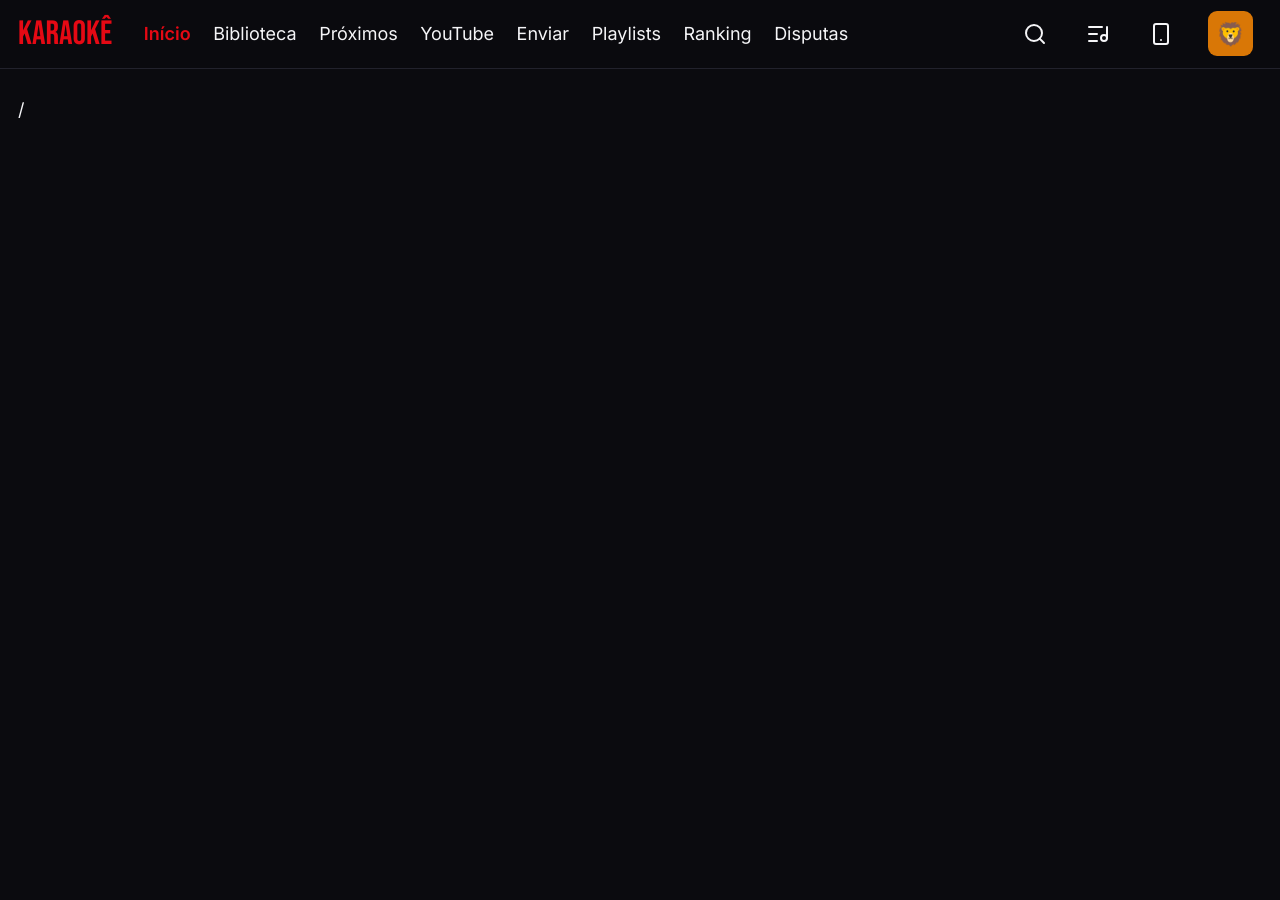
Test case: StageLayout › closes the profile menu when clicking outside and after choosing an option
This screenshot has width=1280, height=900.
Click the button named "Menu do perfil Ana" at (1230, 34), box [1199,9,1262,58]
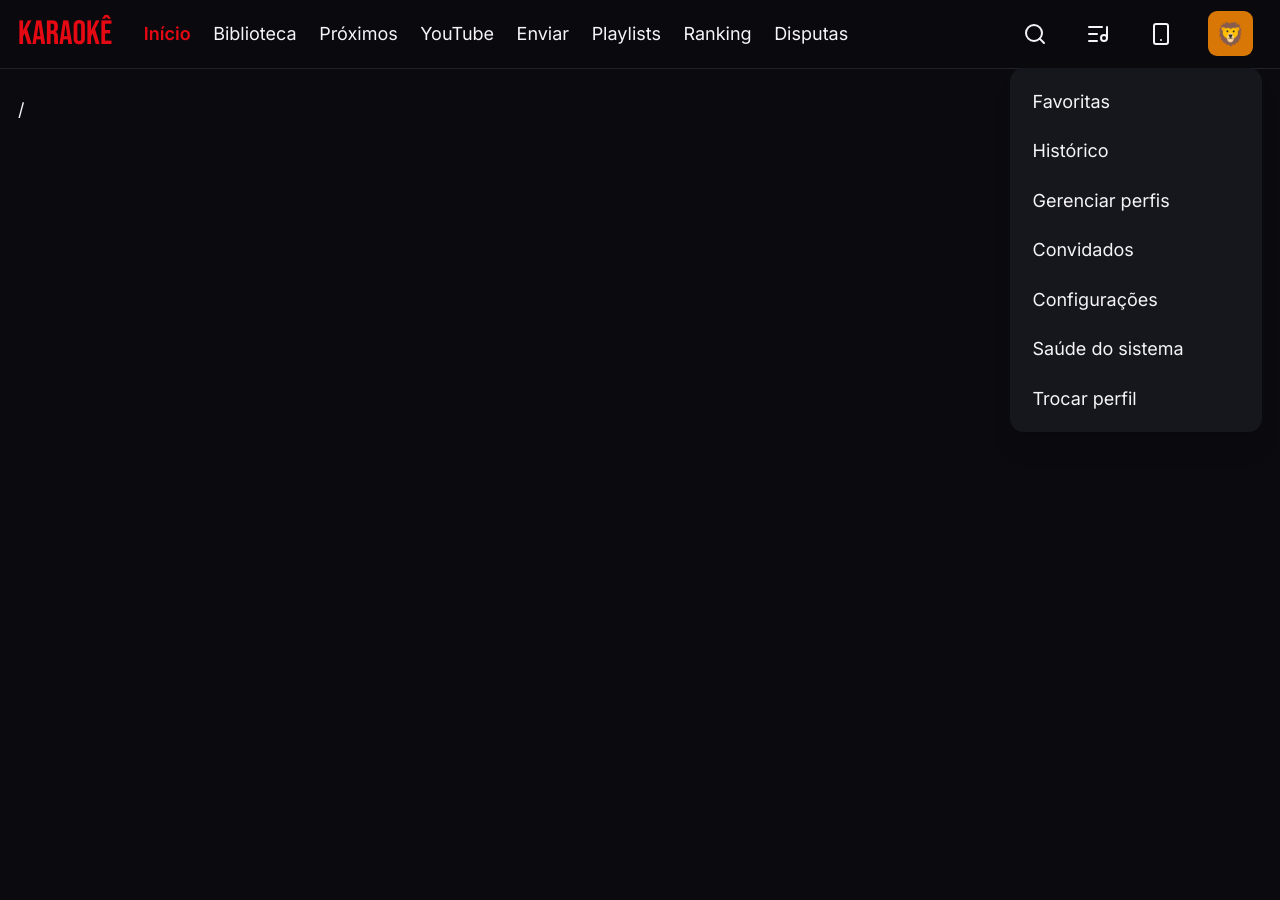
Press the mouse on the element that starts with "Karaokê" at (640, 450), box [0,0,1279,899]
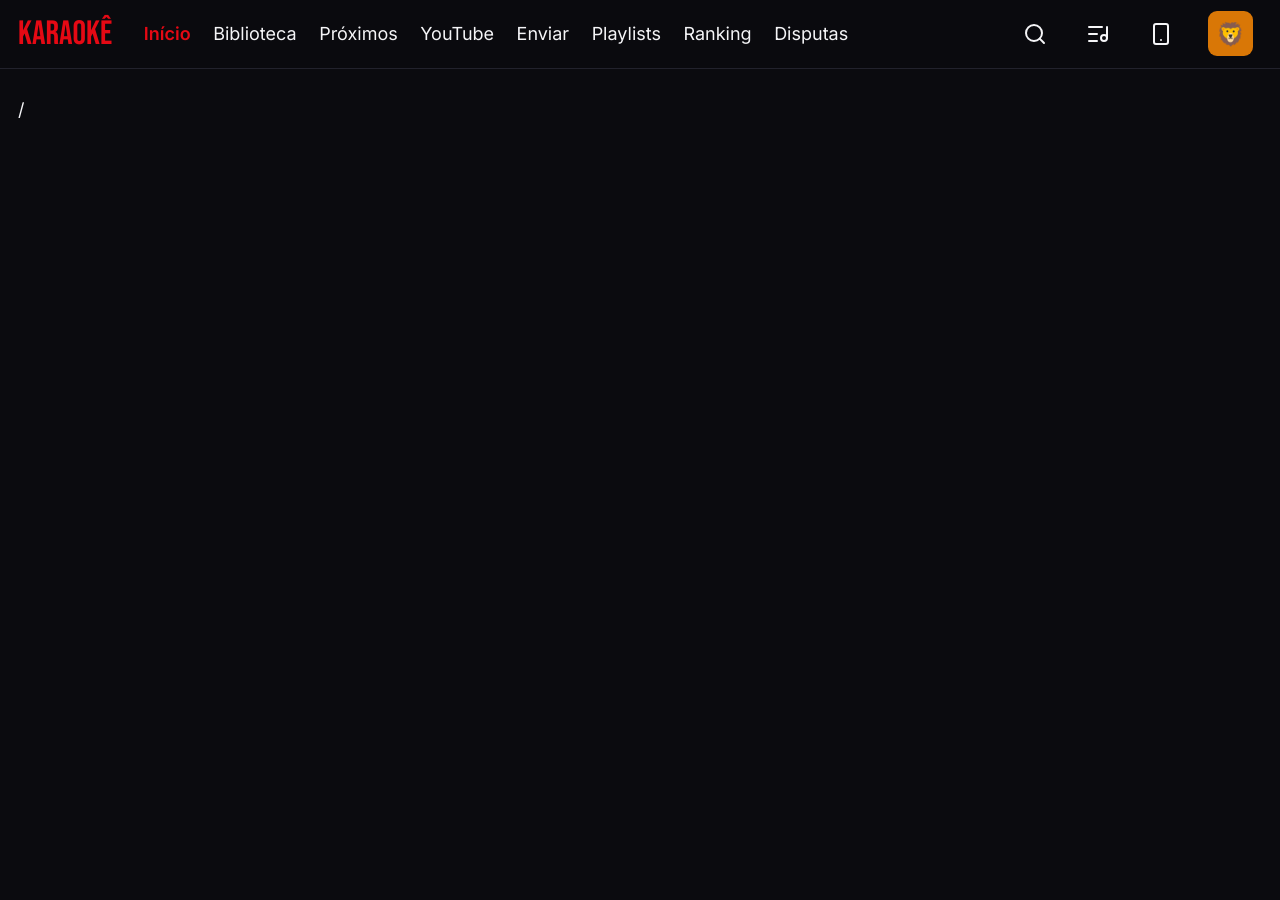
expect the menu is gone: met
Click the button named "Menu do perfil Ana" at (1230, 34), box [1199,9,1262,58]
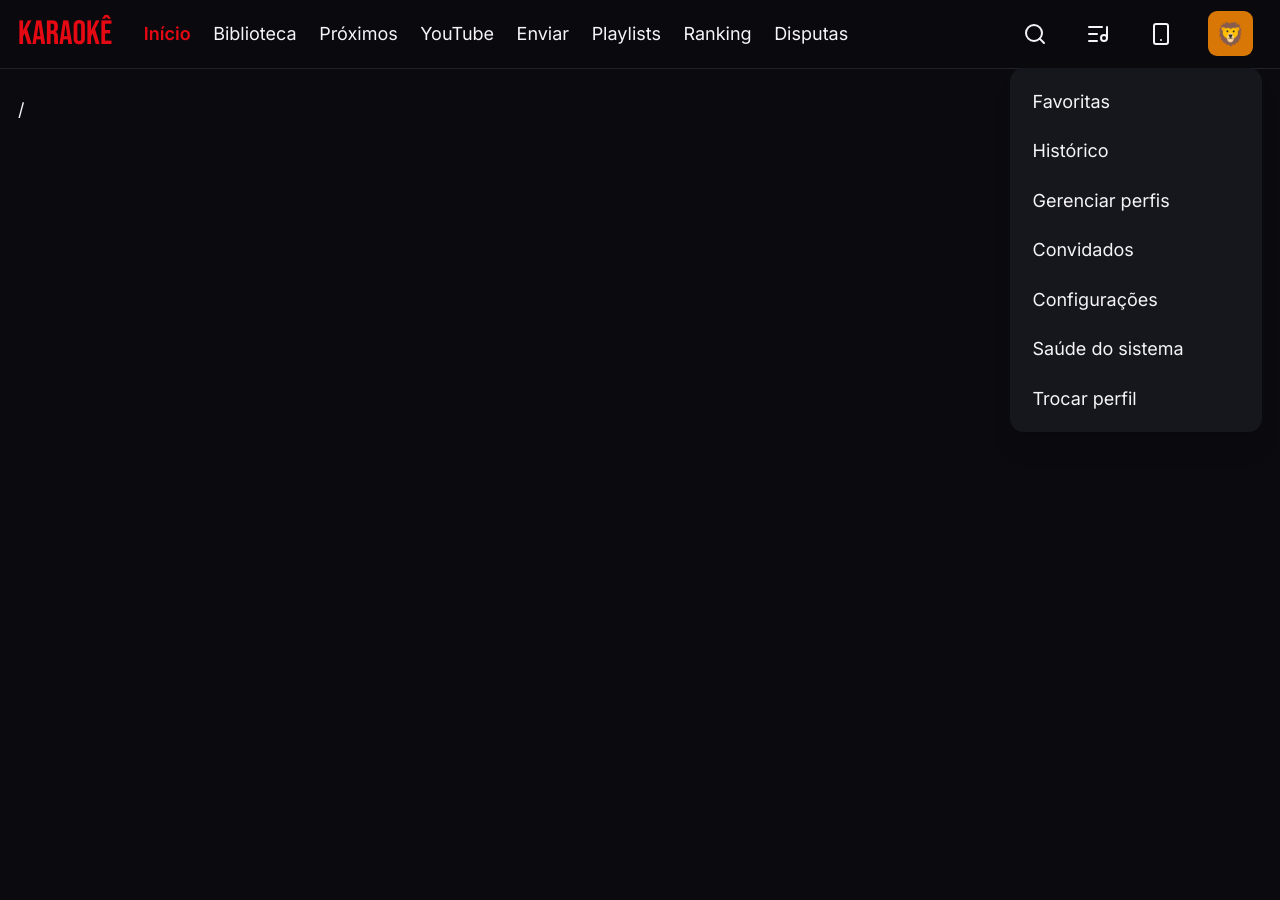
Click the menu item "Configurações" at (1095, 299), box [1032,289,1158,310]
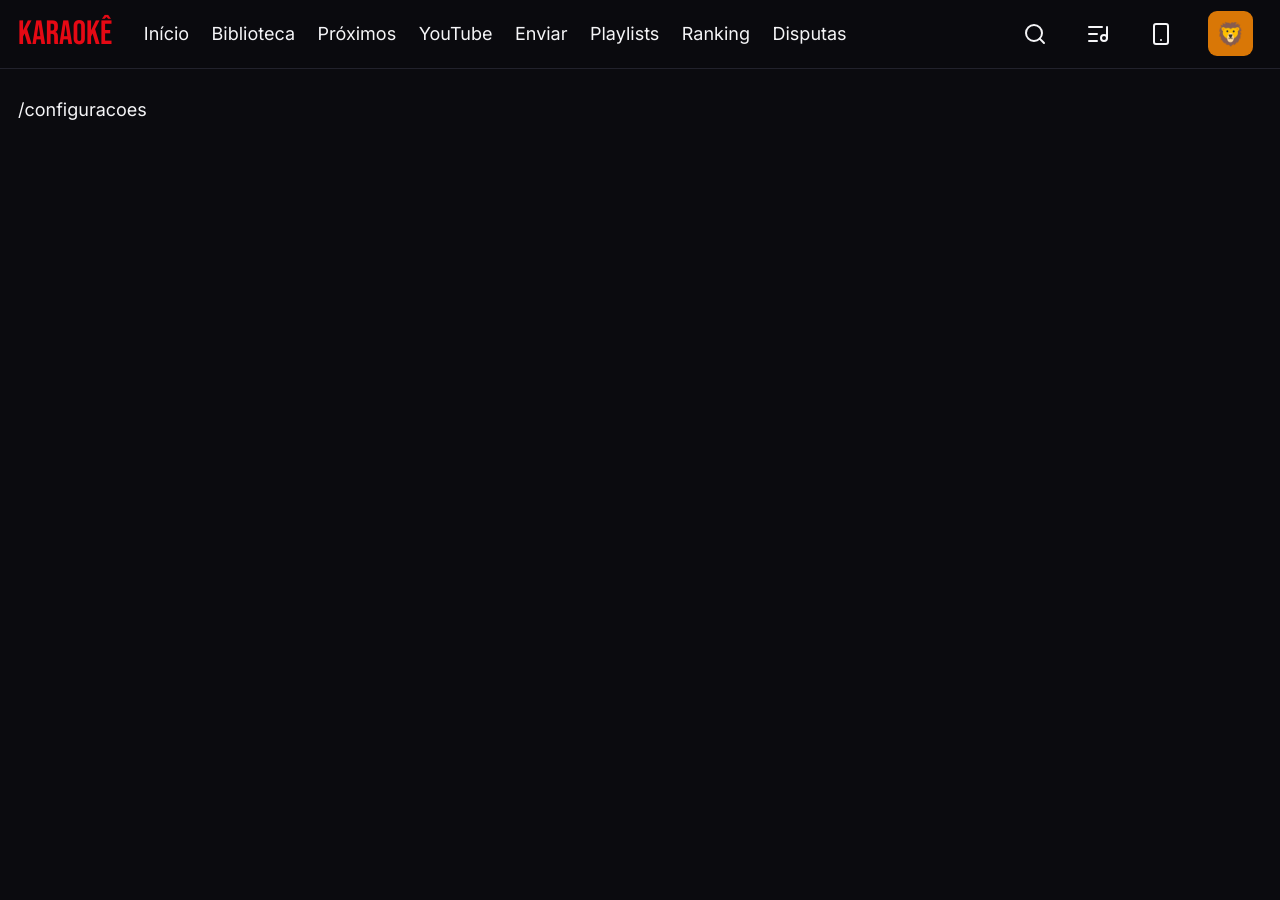
expect the text with test id "location" reads "/configuracoes": met, box [18,98,147,120]
expect the menu is gone: met
